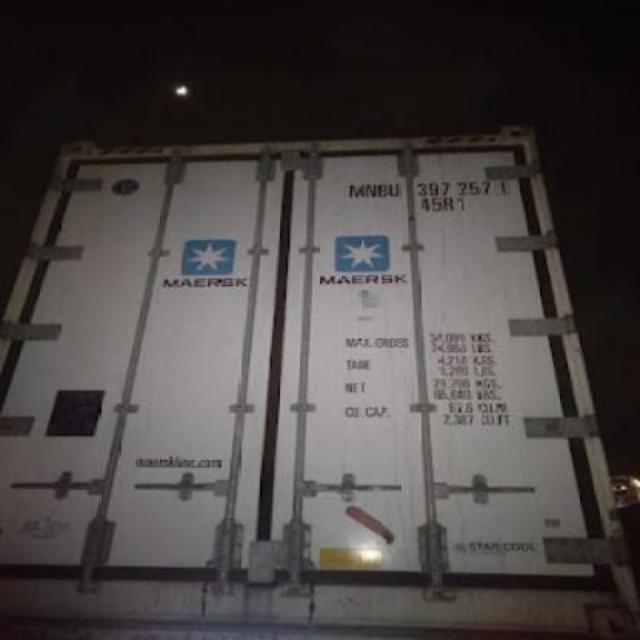1: (496, 180, 509, 196)
2: (458, 180, 470, 196)
3: (416, 182, 428, 196)
5: (468, 180, 480, 196)
7: (480, 180, 492, 196), (440, 182, 452, 194)
9: (428, 182, 440, 196)
B: (378, 182, 390, 198)
M: (348, 182, 366, 198)
N: (366, 182, 378, 198)
U: (388, 184, 400, 196)
